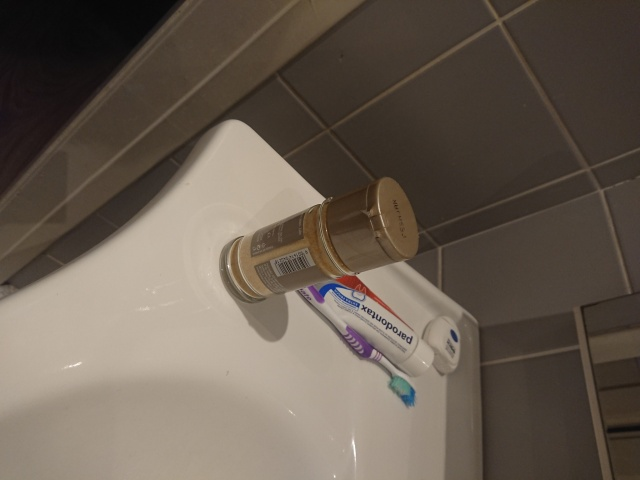Kotanyi Garlic Granules 70g: (217, 175, 422, 305)
